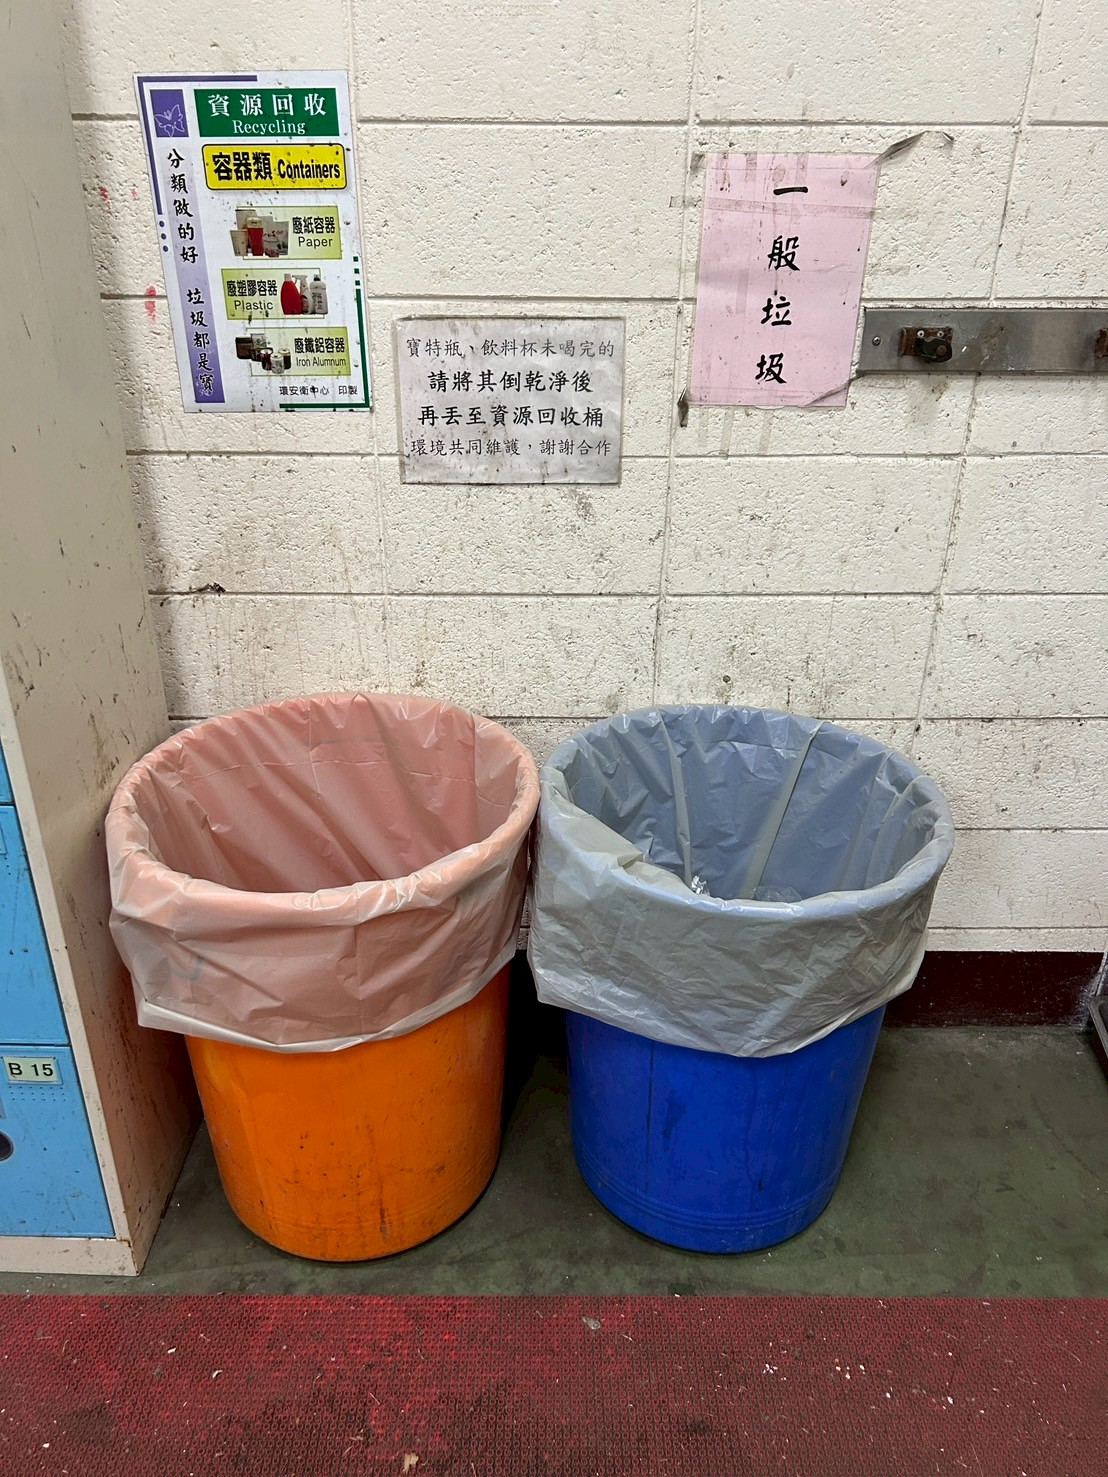normal_bin: (95, 679, 544, 1273)
